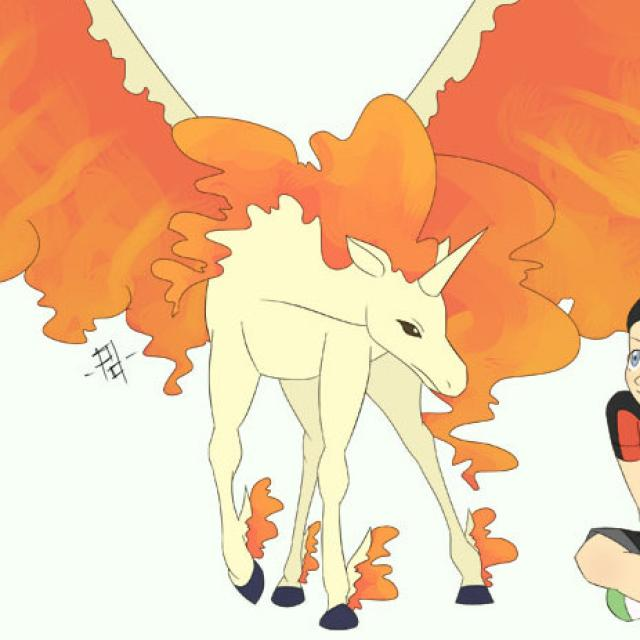Rapidash: (139, 82, 537, 612)
